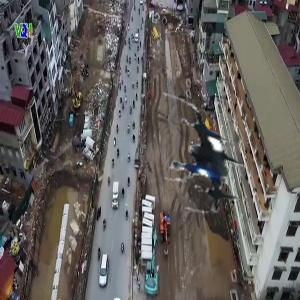drone: (145, 101, 258, 214)
